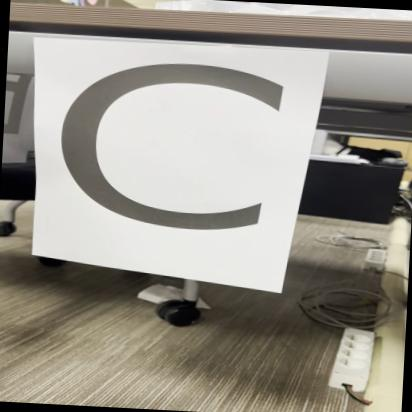seat: (26, 36, 308, 282)
